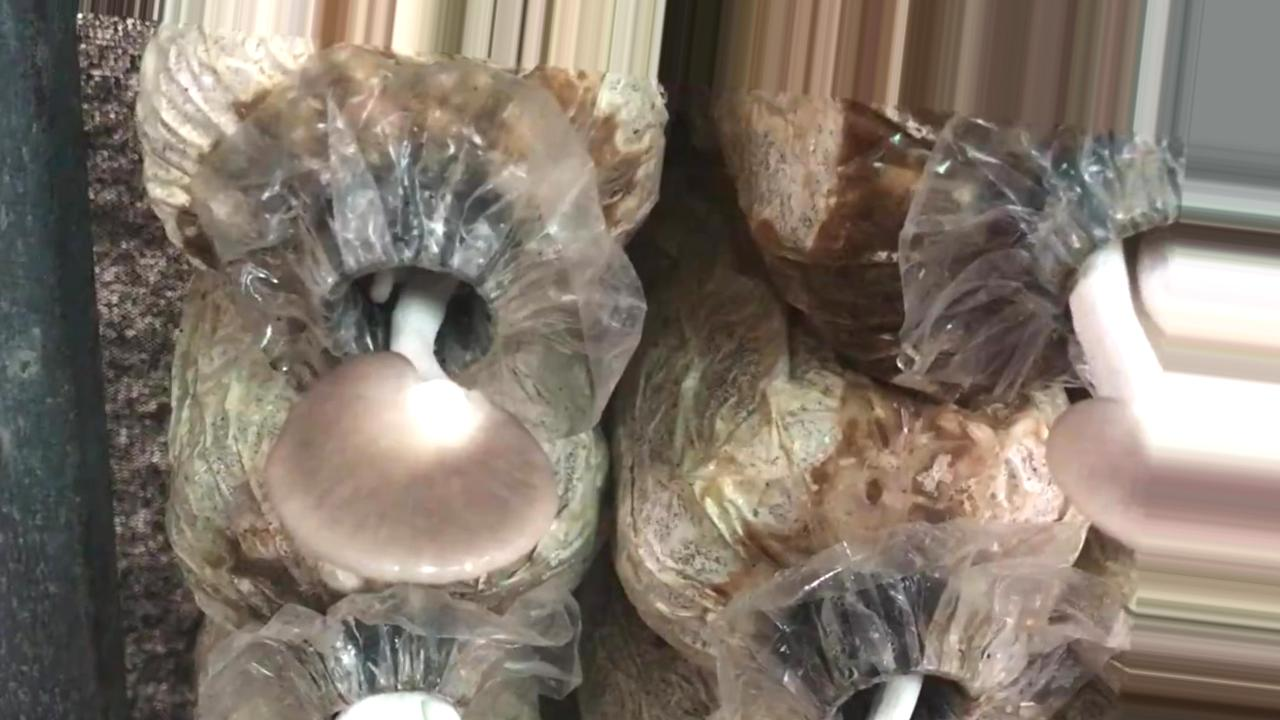nam: (266, 180, 559, 593), (1043, 167, 1280, 559)
